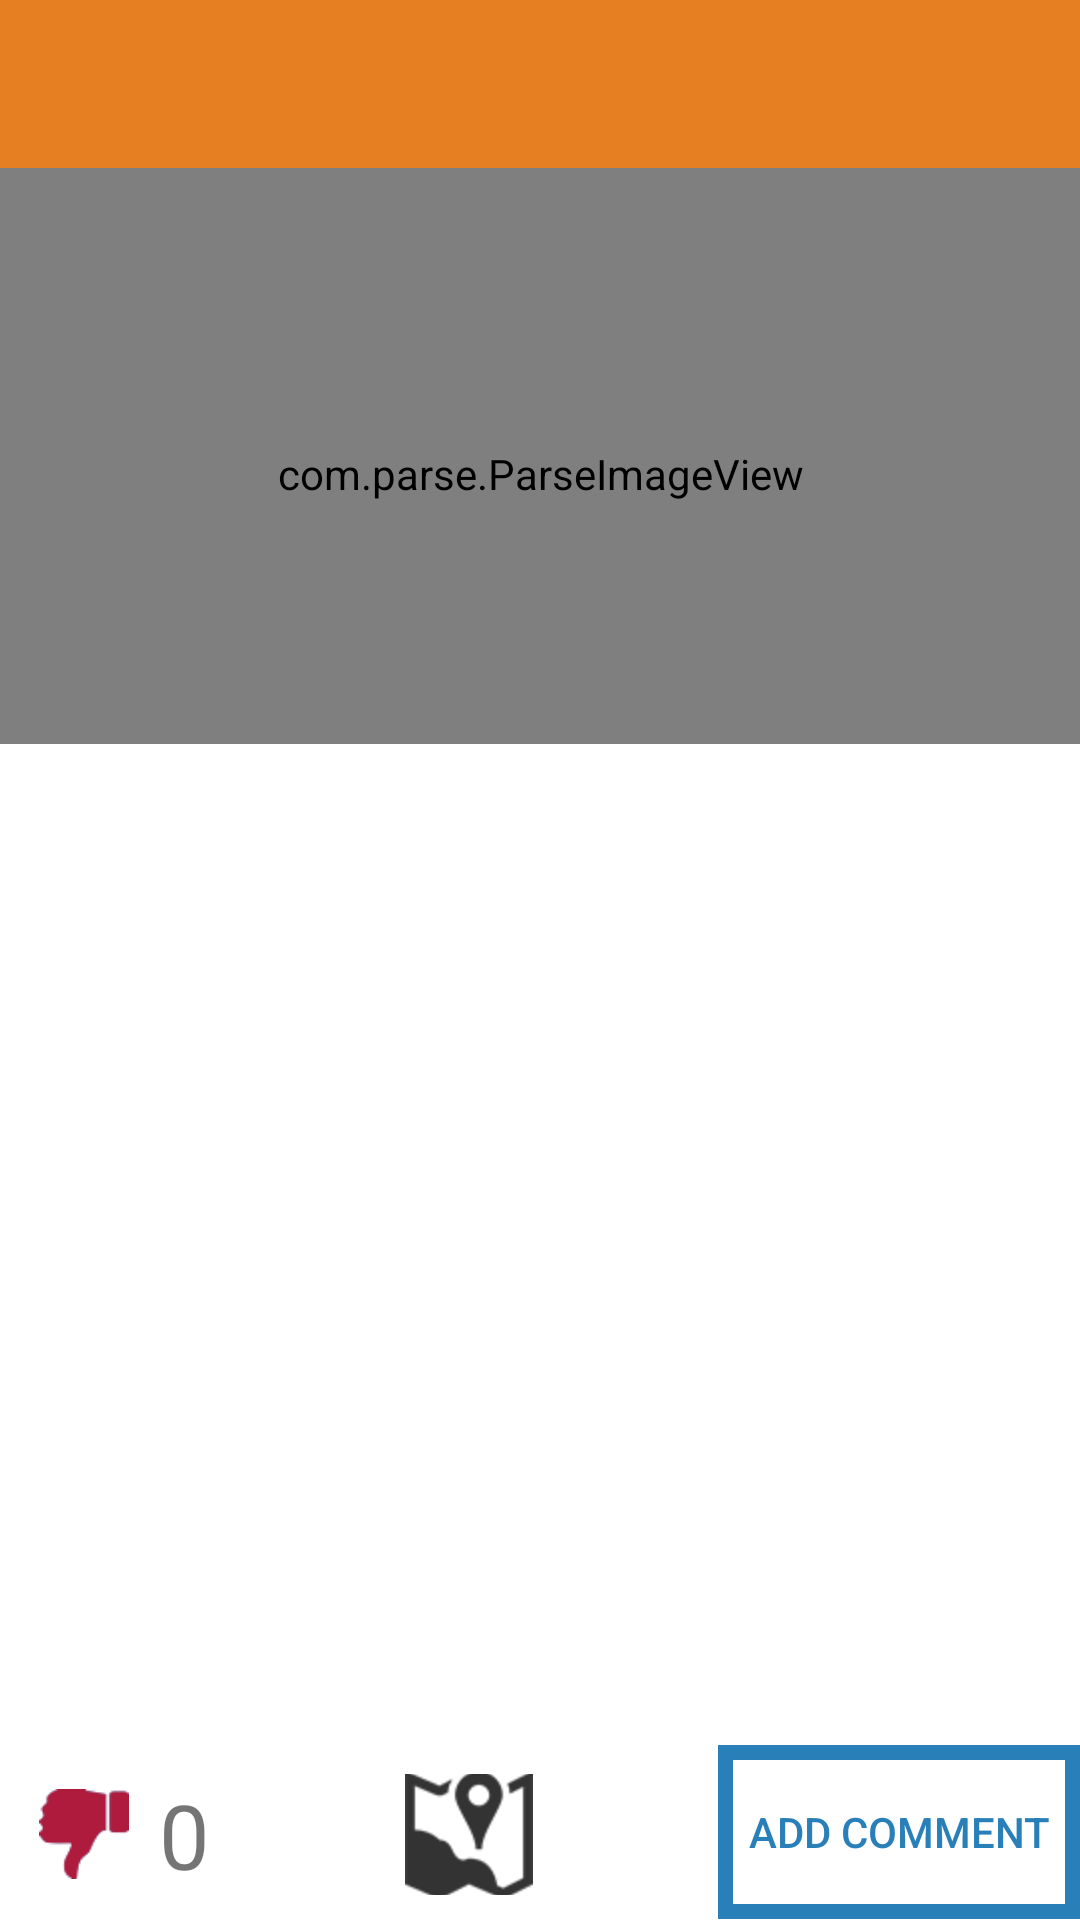

Named icons in this screenshot (1080x1920) and their bounding boxes, (x1, y1, x2, y2):
map marker: (405, 1774, 533, 1895)
thumbs down: (39, 1789, 129, 1879)
